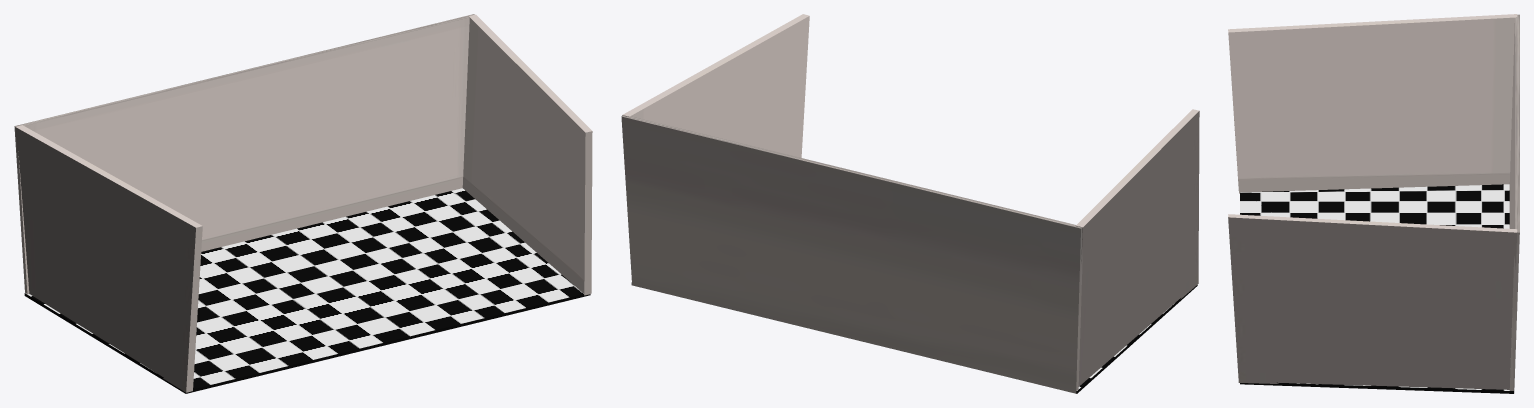
Rendered from Kitchen_Final.fbx.
3 renders of one model, left to right at view 1: azimuth 30°, elevation 25°; view 2: azimuth 150°, elevation 25°; view 3: azimuth 270°, elevation 25°, orthographic. The views are drawn at different scales.
Parts seen in each view (by area): view 1: BackWall_Kitchen, Ground_Kitchen, Wall_Left_Kitchen, Wall_Right_Kitchen; view 2: BackWall_Kitchen, Wall_Left_Kitchen, Wall_Right_Kitchen, Ground_Kitchen; view 3: Wall_Left_Kitchen, Wall_Right_Kitchen, Ground_Kitchen, BackWall_Kitchen.
Boxes of the visible parts, x1,y1,x2,y2 form: BackWall_Kitchen: (14,14,474,294); Ground_Kitchen: (24,188,590,393); Wall_Left_Kitchen: (15,125,202,392); Wall_Right_Kitchen: (462,14,592,295); BackWall_Kitchen: (621,115,1082,393); Wall_Left_Kitchen: (1076,109,1199,386); Wall_Right_Kitchen: (622,14,809,157); Ground_Kitchen: (631,282,1197,393); Wall_Left_Kitchen: (1228,14,1517,193); Wall_Right_Kitchen: (1228,214,1517,389); Ground_Kitchen: (1240,184,1513,393); BackWall_Kitchen: (1509,14,1519,393).
Size of the model in its own units: 932 by 328 by 526.
